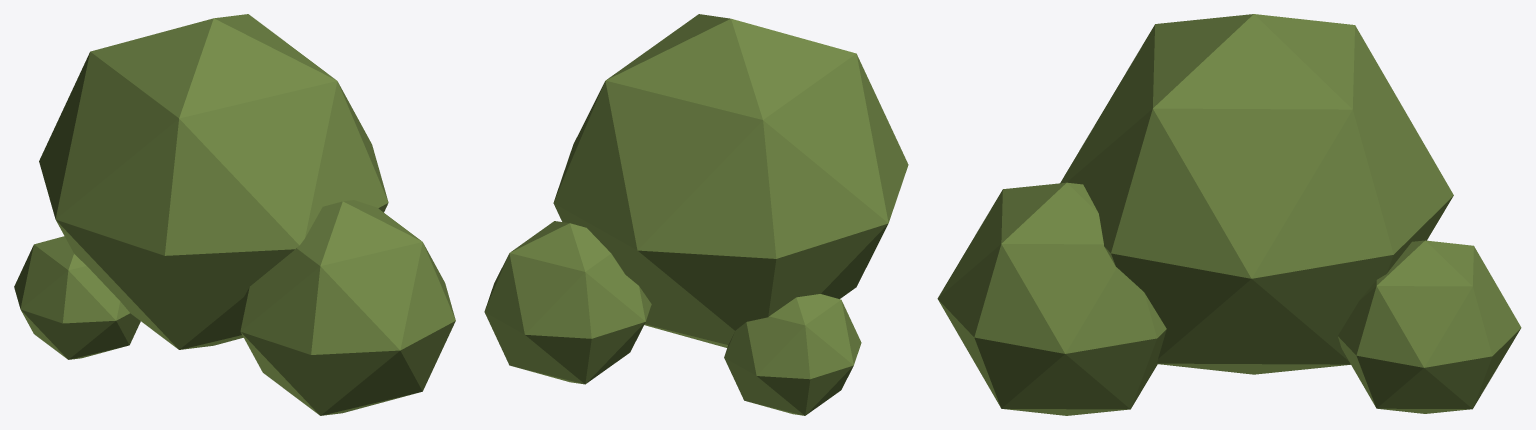
File: bush_green_1.glb
The picture shows the model from 3 angles, left to right: view 1: azimuth 30°, elevation 25°; view 2: azimuth 150°, elevation 25°; view 3: azimuth 270°, elevation 25°; orthographic projection. The views are drawn at different scales.
Visible parts, largest first — view 1: Liurnia Bushes.002; view 2: Liurnia Bushes.002; view 3: Liurnia Bushes.002.
Boxes of the visible parts, <box> form: Liurnia Bushes.002: <box>14,14,455,415</box>; Liurnia Bushes.002: <box>484,14,908,415</box>; Liurnia Bushes.002: <box>937,14,1521,415</box>.
Bounding box in the file's own units: 0.0768 × 0.08 × 0.112.
